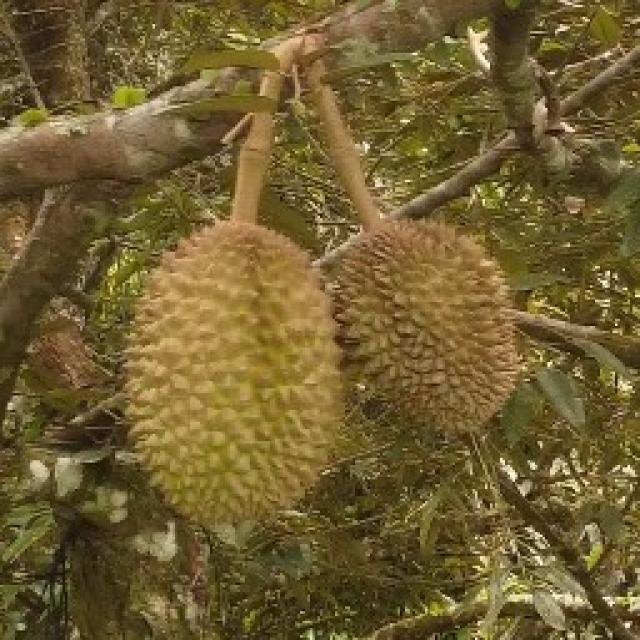mature: (121, 218, 341, 528), (325, 218, 525, 429)
